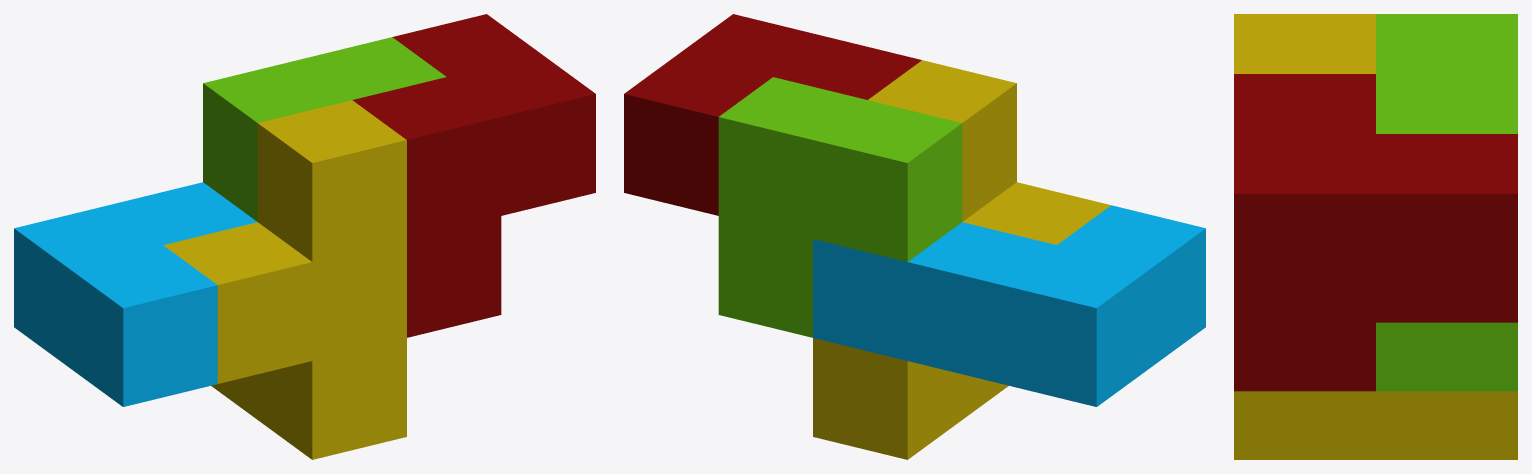
3 views of the same model, side by side, from view 1: azimuth 30°, elevation 25°; view 2: azimuth 150°, elevation 25°; view 3: azimuth 270°, elevation 25° (orthographic). The views are drawn at different scales.
Visible parts, largest first — view 1: mergedBlocks(Clone); view 2: mergedBlocks(Clone); view 3: mergedBlocks(Clone).
Part boxes in pixels (x1,y1,x2,y2): mergedBlocks(Clone): [14, 14, 595, 459]; mergedBlocks(Clone): [624, 14, 1205, 459]; mergedBlocks(Clone): [1234, 14, 1517, 459].
Bounding box in the file's own units: 5 × 3 × 2.
Materials: 4 (4 with a texture image).
